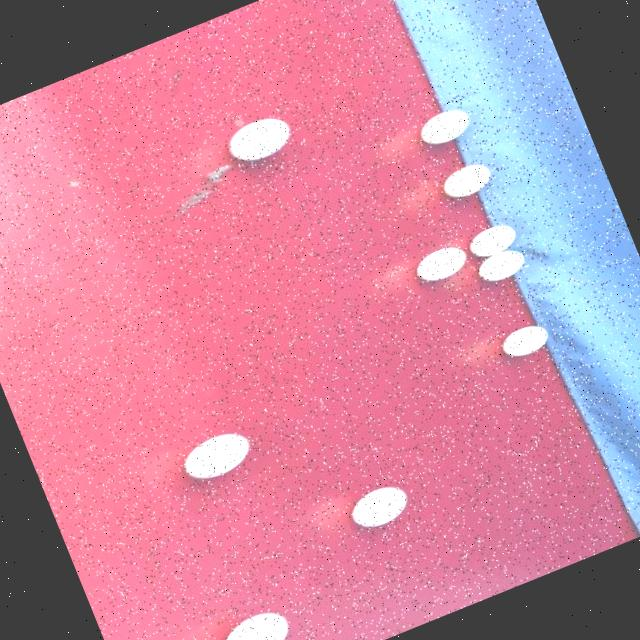ping-pong-ball: (164, 416, 272, 496), (213, 103, 307, 177), (336, 473, 426, 542), (203, 594, 313, 640), (486, 310, 568, 371), (405, 233, 479, 294), (430, 149, 505, 208), (406, 100, 482, 158), (468, 242, 538, 292), (465, 217, 524, 264)
